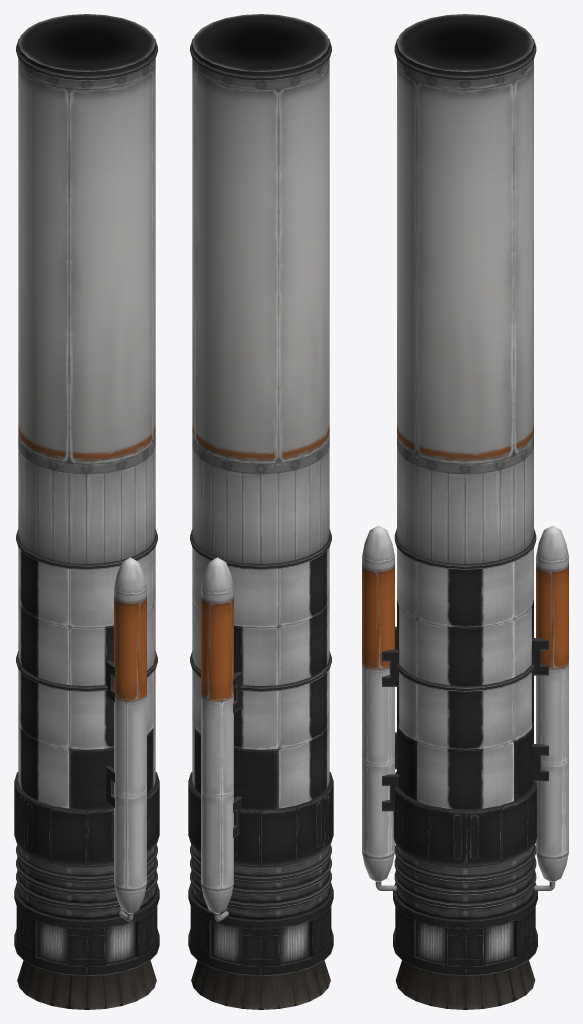
Rendered from Soltan_Inline.dae.
3 views of the same model, side by side, from view 1: azimuth 30°, elevation 25°; view 2: azimuth 150°, elevation 25°; view 3: azimuth 270°, elevation 25° (orthographic).
Parts seen in each view (by area): view 1: Soltan_Inline2; view 2: Soltan_Inline2; view 3: Soltan_Inline2.
Boxes of the visible parts, x1=… form: Soltan_Inline2: x1=14, y1=14, x2=159, y2=1009; Soltan_Inline2: x1=188, y1=14, x2=333, y2=1009; Soltan_Inline2: x1=362, y1=14, x2=568, y2=1009.
Bounding box in the file's own units: 1.59 × 11.3 × 2.26.
